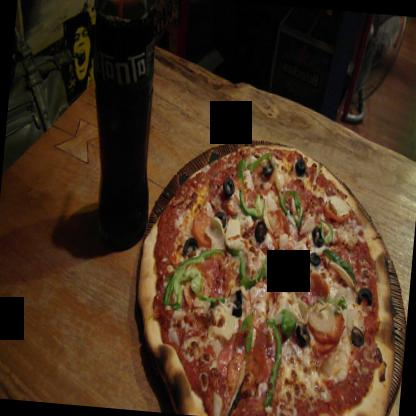handbag: (2, 19, 70, 176)
